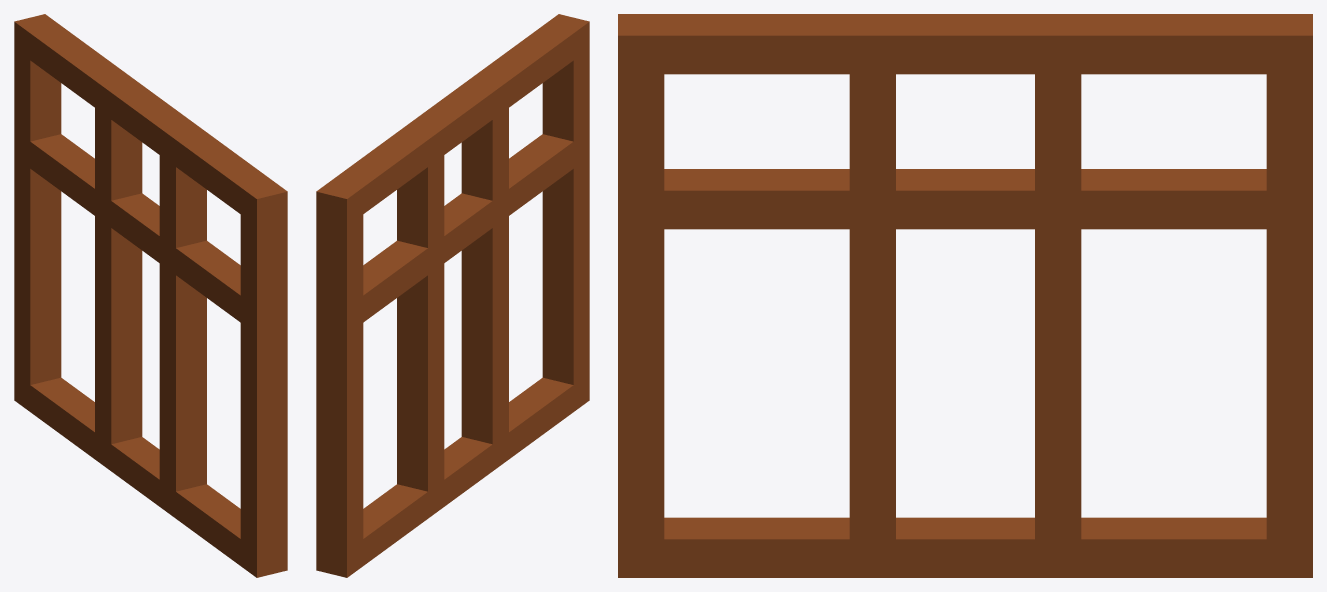
File: MediumWindow.fbx
3 views of the same model, side by side, from view 1: azimuth 30°, elevation 25°; view 2: azimuth 150°, elevation 25°; view 3: azimuth 270°, elevation 25° (orthographic). The views are drawn at different scales.
Parts seen in each view (by area): view 1: Medium Window; view 2: Medium Window; view 3: Medium Window.
Part boxes in pixels (box(x1,y1,x2,y2)): Medium Window: box(14, 14, 287, 577); Medium Window: box(316, 14, 589, 577); Medium Window: box(618, 14, 1312, 577).
Bounding box in the file's own units: 30 × 351 × 407.
